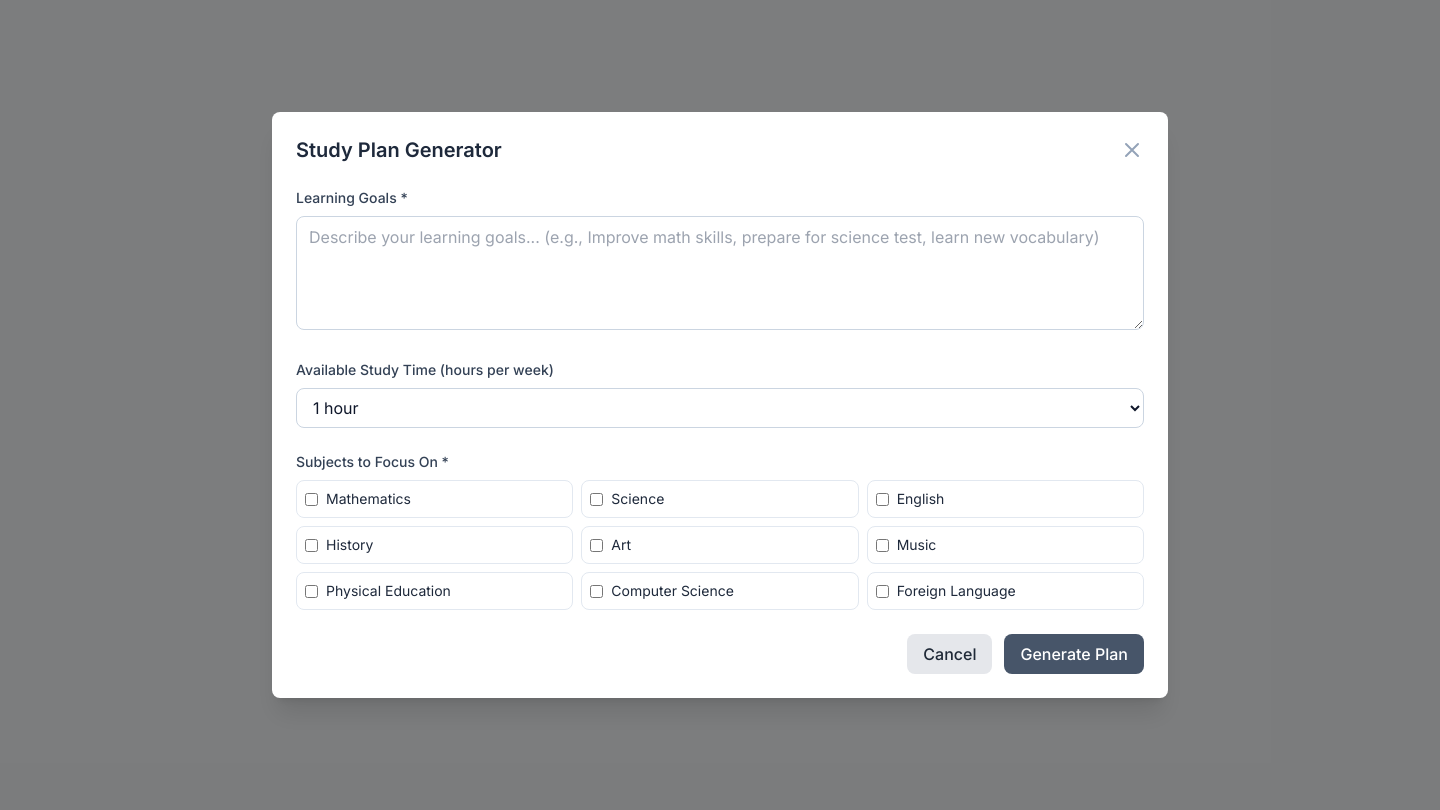
Scenario: LMS Platform Test Suite › AI Study Plan Component › should show validation error when no subjects selected
Replace the text in the text box with placeholder "Describe your learning goals" with "Learn mathematics": (720, 273) [296,216,1144,330]
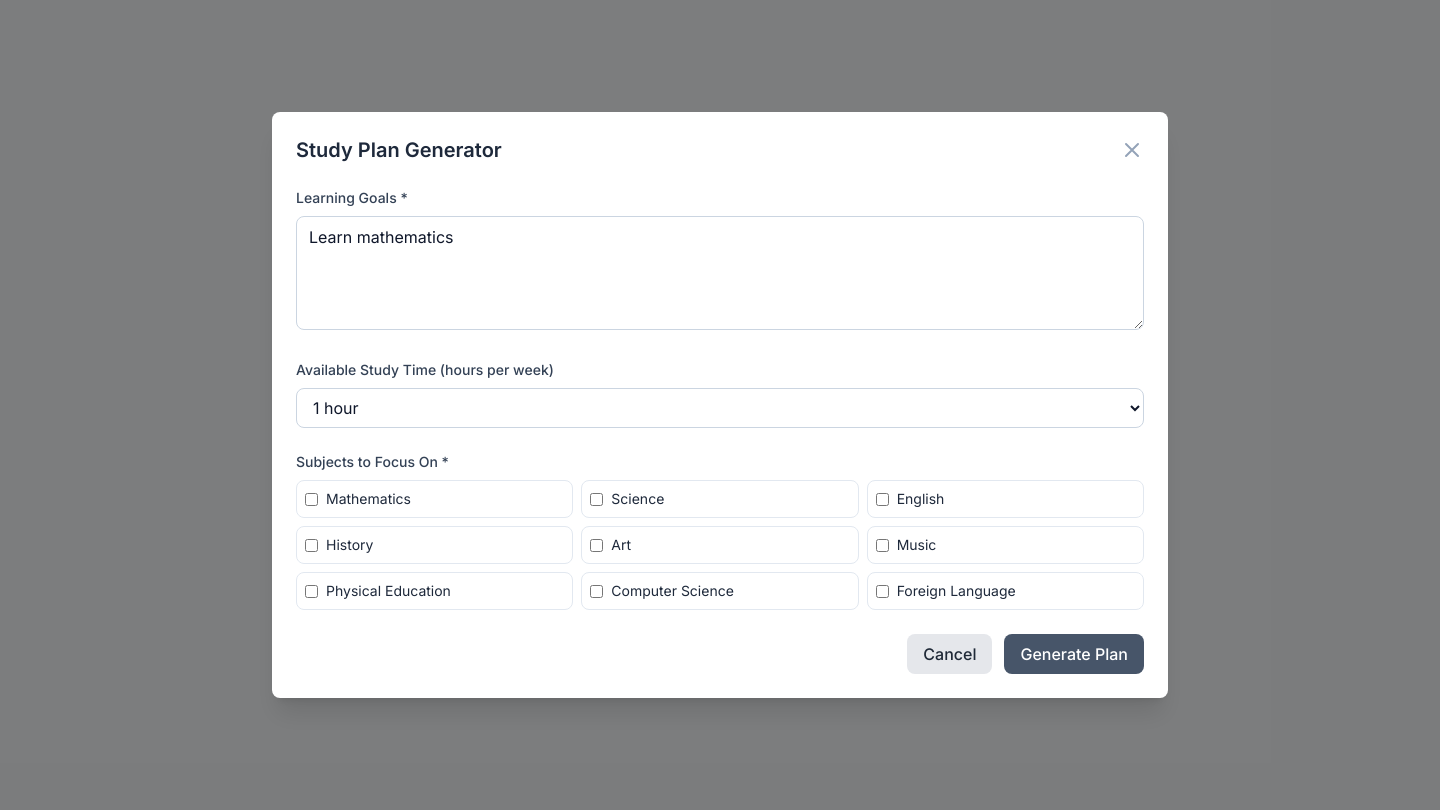
Click the button "Generate Plan": (1074, 654) [1004,634,1144,674]
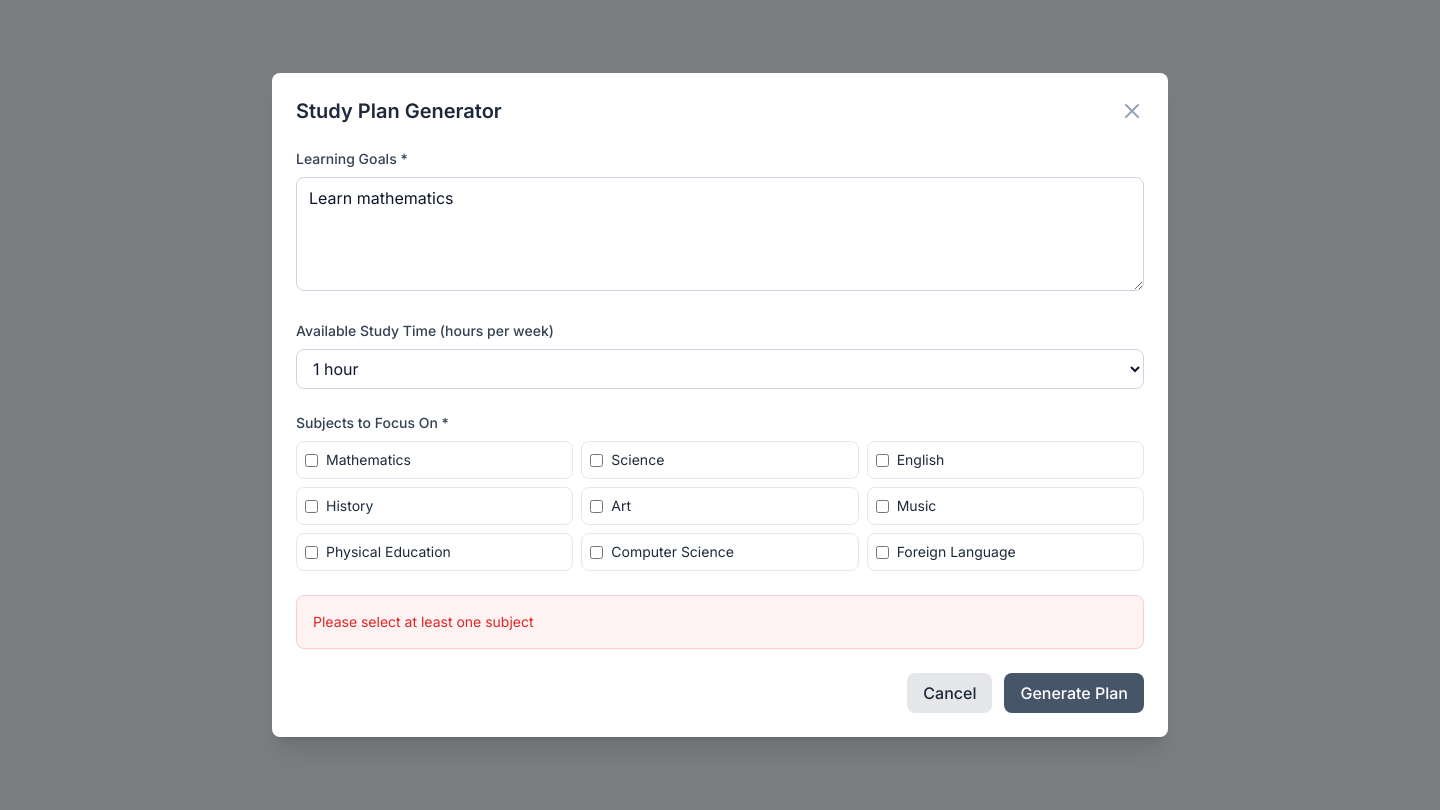
Expected: the text "Please select at least one subject" is shown, [313,613,534,630]
